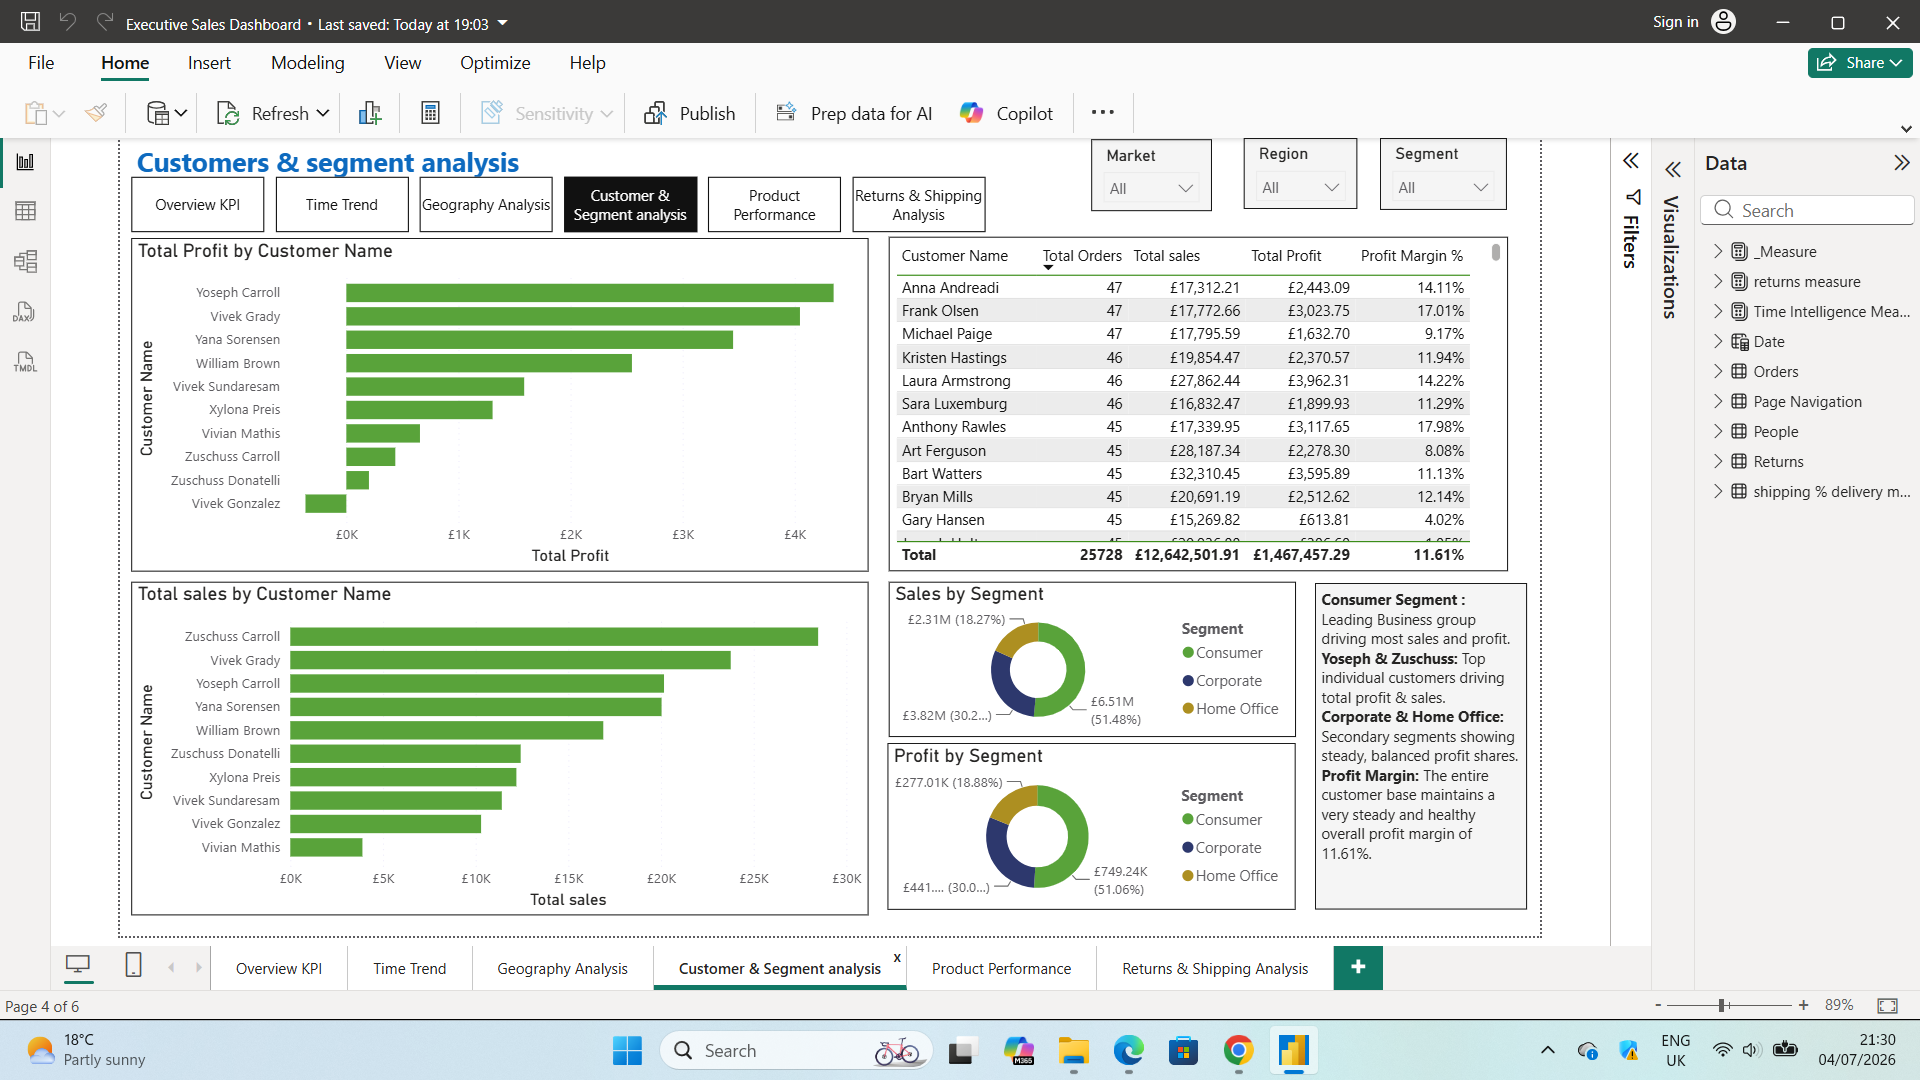

This screenshot's page, from the dashboard's own definition file:
{"tool":"powerbi","page":{"name":"Customer & Segment analysis","canvas":[1280,720],"ordinal":3},"visuals":[{"type":"textbox","box":[9.7,0,374.3,58.4],"z":0},{"type":"donutChart","title":"Sales by Segment","fields":{"Category":["Orders.Segment"],"Y":["_Measure.Total sales"]},"box":[692.6,400.5,367.3,140.3],"z":1000},{"type":"donutChart","title":" Profit by Segment","fields":{"Category":["Orders.Segment"],"Y":["_Measure.Total Profit"]},"box":[692.1,545.4,368.1,150.4],"z":2000},{"type":"barChart","fields":{"Category":["Orders.Customer Name"],"Y":["_Measure.Total sales"]},"box":[10.1,400.5,665.2,300.8],"z":3000},{"type":"barChart","fields":{"Category":["Orders.Customer Name"],"Y":["_Measure.Total Profit"]},"box":[10.1,89.7,665.2,300.8],"z":4000},{"type":"tableEx","fields":{"Values":["Orders.Customer Name","_Measure.Total Orders","_Measure.Total sales","_Measure.Total Profit","_Measure.Profit Margin %"]},"box":[692.6,89.4,558.6,301.6],"z":5000},{"type":"slicer","fields":{"Values":["Orders.Region"]},"box":[1013.7,0,102.7,63.6],"z":6000},{"type":"slicer","fields":{"Values":["Orders.Segment"]},"box":[1136.6,0,114.2,65.1],"z":7000},{"type":"slicer","fields":{"Values":["Orders.Market"]},"box":[876.3,1.4,108.5,65.1],"z":8000},{"type":"pageNavigator","box":[10.1,34.7,775.1,50.6],"z":9000},{"type":"textbox","box":[1077.4,400.9,191.2,294.2],"z":10000}]}

Visuals, with their boxes on the page's 1280x720 design canvas (x1, y1, x2, y2). These are canvas units, not pixel positions in the 1920x1080 screenshot, which may show the page scaled, cropped or inside an application window:
textbox: (10,0,384,58)
"Sales by Segment" donutChart: (693,400,1060,541)
" Profit by Segment" donutChart: (692,545,1060,696)
barChart - Orders.Customer Name x _Measure.Total sales: (10,400,675,701)
barChart - Orders.Customer Name x _Measure.Total Profit: (10,90,675,390)
tableEx - Orders.Customer Name x _Measure.Total Orders: (693,89,1251,391)
slicer - Orders.Region: (1014,0,1116,64)
slicer - Orders.Segment: (1137,0,1251,65)
slicer - Orders.Market: (876,1,985,66)
pageNavigator: (10,35,785,85)
textbox: (1077,401,1269,695)
